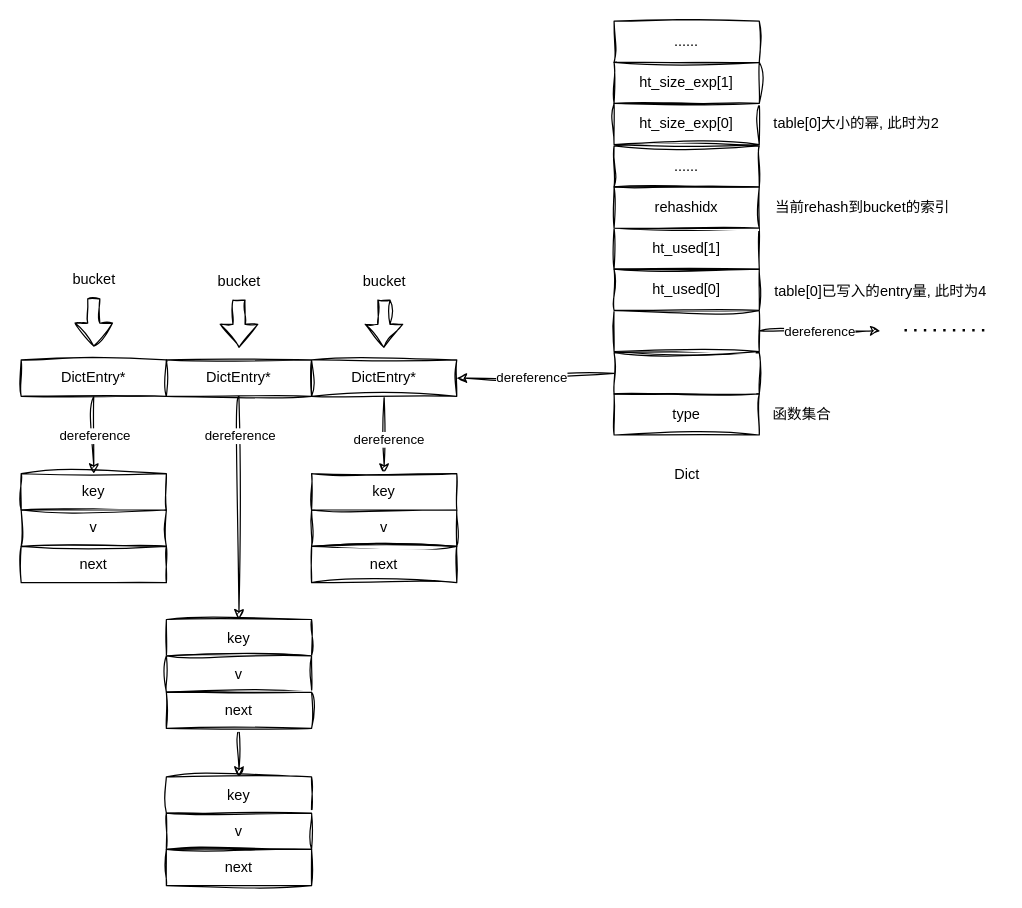
The diagram is 1022 pixels wide and 908 high, and some of its shapes have lost their labels. The shapes that lost their labels are listed below. From the top down, each one's centre as x and y in pixels, then its label:
At point (686, 330): "ht_table[1]".
At point (686, 373): "ht_table[0]".
